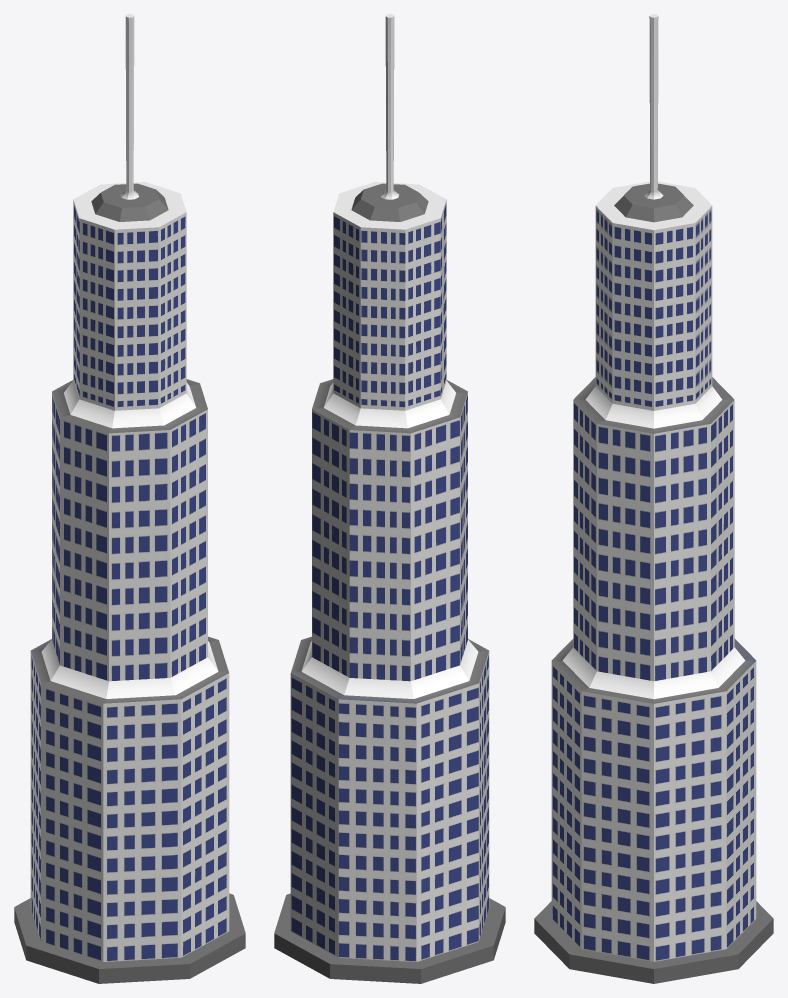
File: Building4_Asset.fbx
The picture shows the model from 3 angles, left to right: view 1: azimuth 30°, elevation 25°; view 2: azimuth 150°, elevation 25°; view 3: azimuth 270°, elevation 25°; orthographic projection.
Parts seen in each view (by area): view 1: Building4_Assset; view 2: Building4_Assset; view 3: Building4_Assset.
Part boxes in pixels (x1,y1,x2,y2): Building4_Assset: [14, 14, 245, 983]; Building4_Assset: [274, 14, 505, 983]; Building4_Assset: [534, 14, 773, 983].
Bounding box in the file's own units: 17.94 × 75.91 × 17.94.
Materials: 1 (1 with a texture image).
